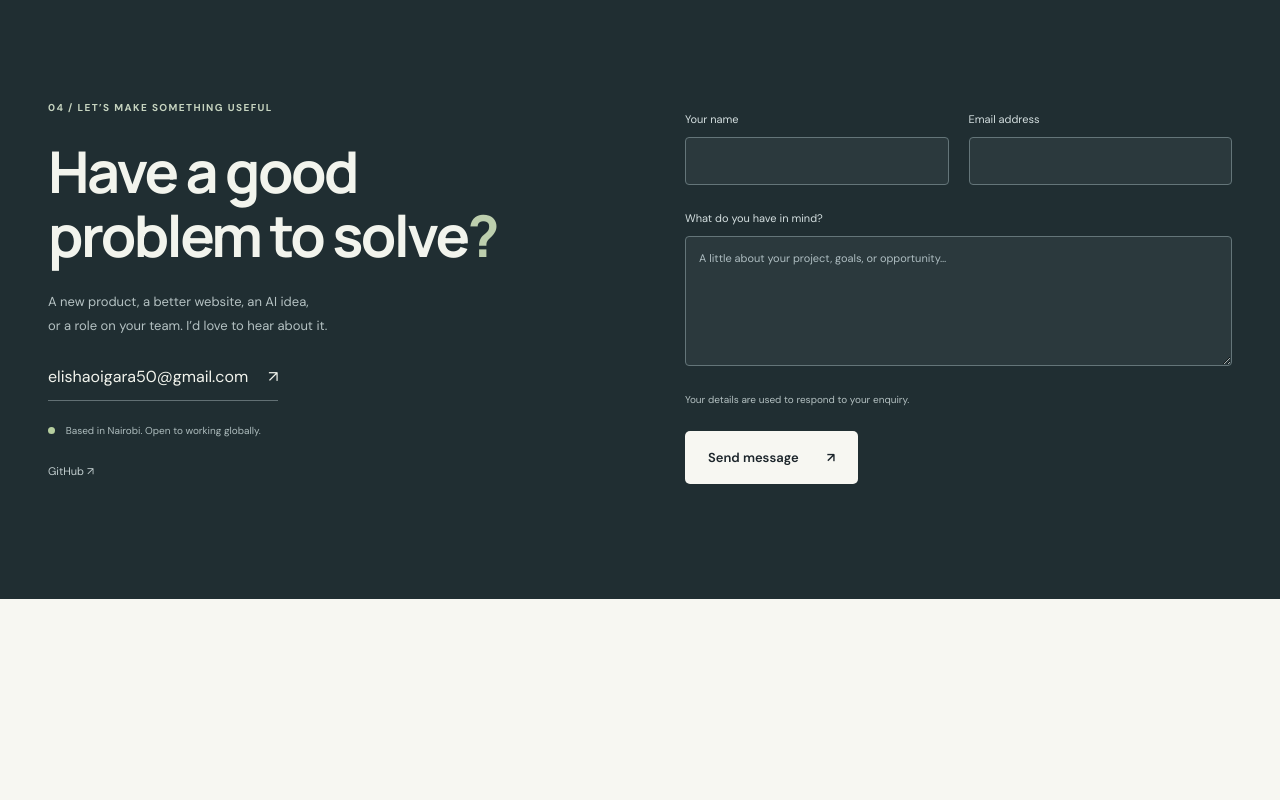
Scenario: only confirms a message after provider acceptance
Type "Visitor" into the field labelled "Your name". click: (817, 161)
box: 685,137 -> 948,184
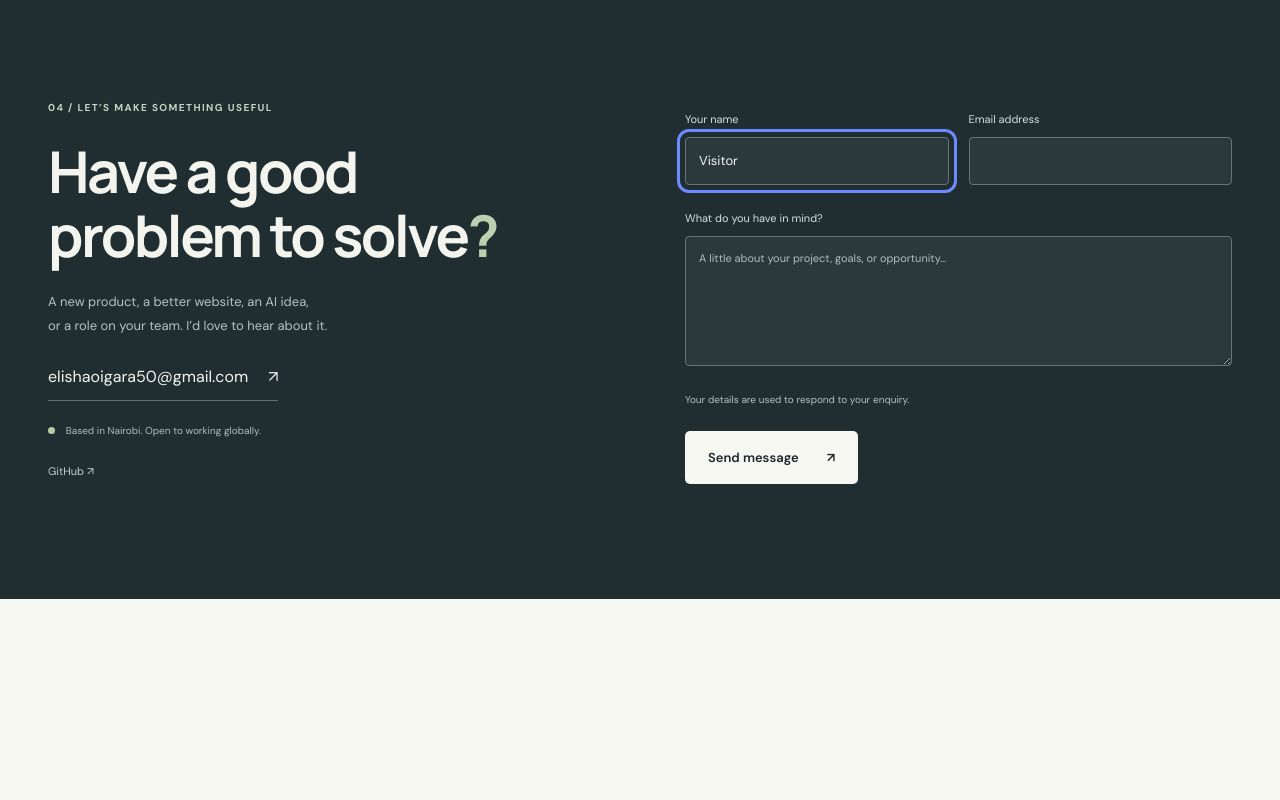
Type "visitor@example.com" into the field labelled "Email address". click: (1100, 161)
box: 968,137 -> 1232,184
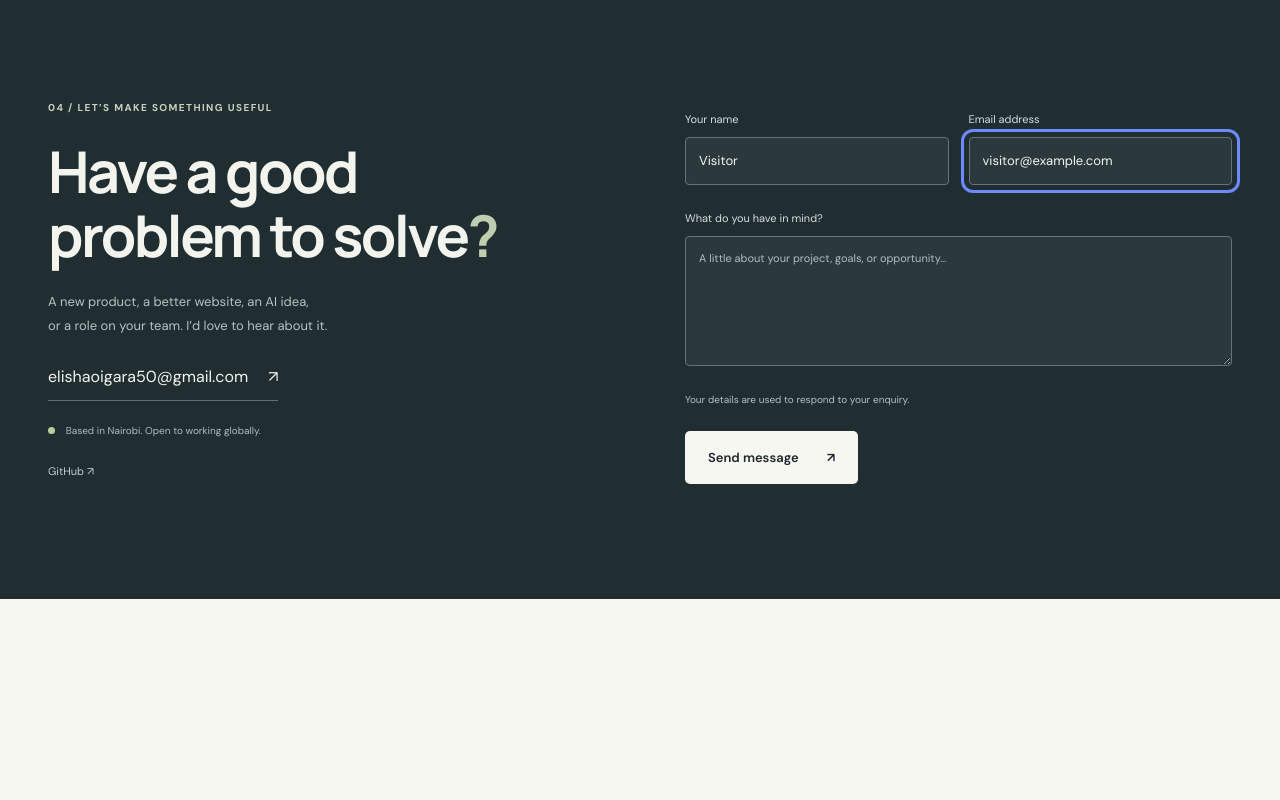
Type "A useful project." into the text box labelled "What do you have in mind?". click: (958, 301)
box: 685,236 -> 1232,366
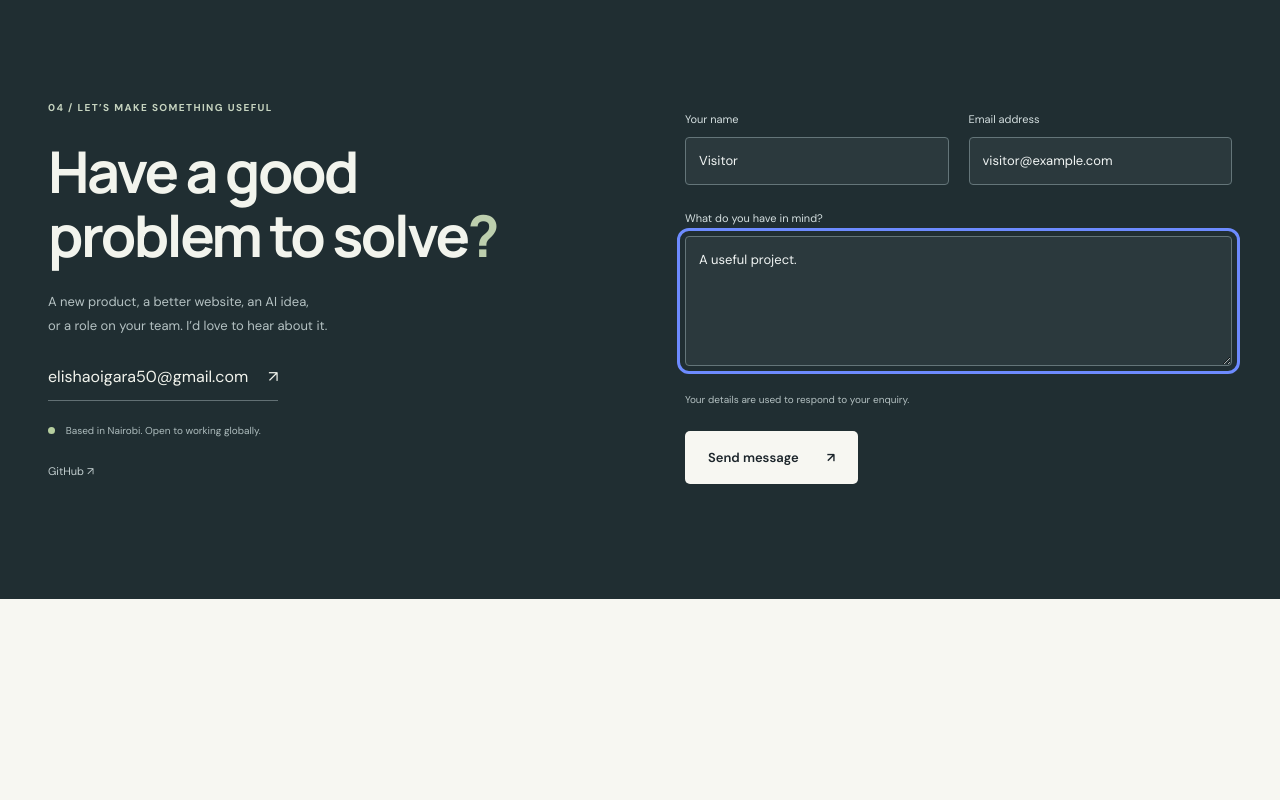
Click the button "Send message ↗". click: (772, 457)
box: 685,431 -> 858,484
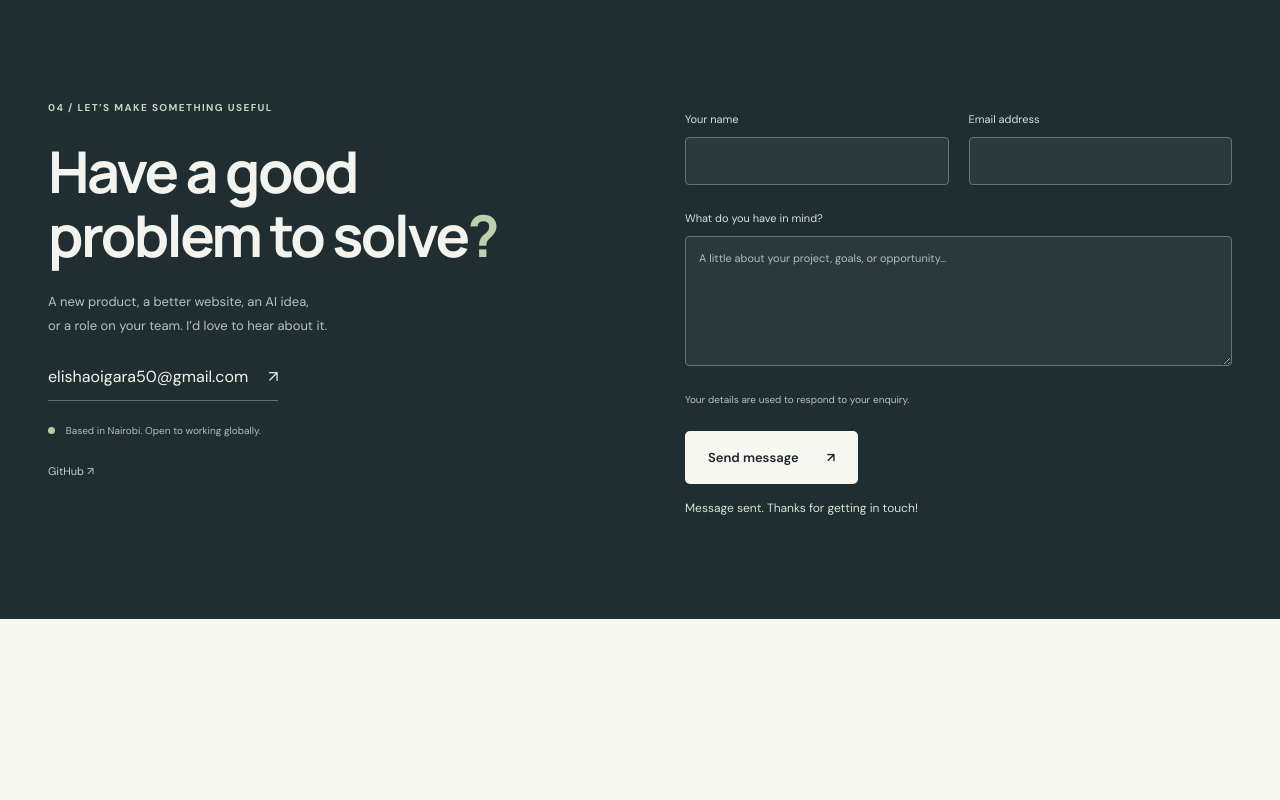
Check: the message shows "Message sent.", box 685,500 -> 918,516
Check: the field labelled "Your name" is empty, box 685,137 -> 948,184
